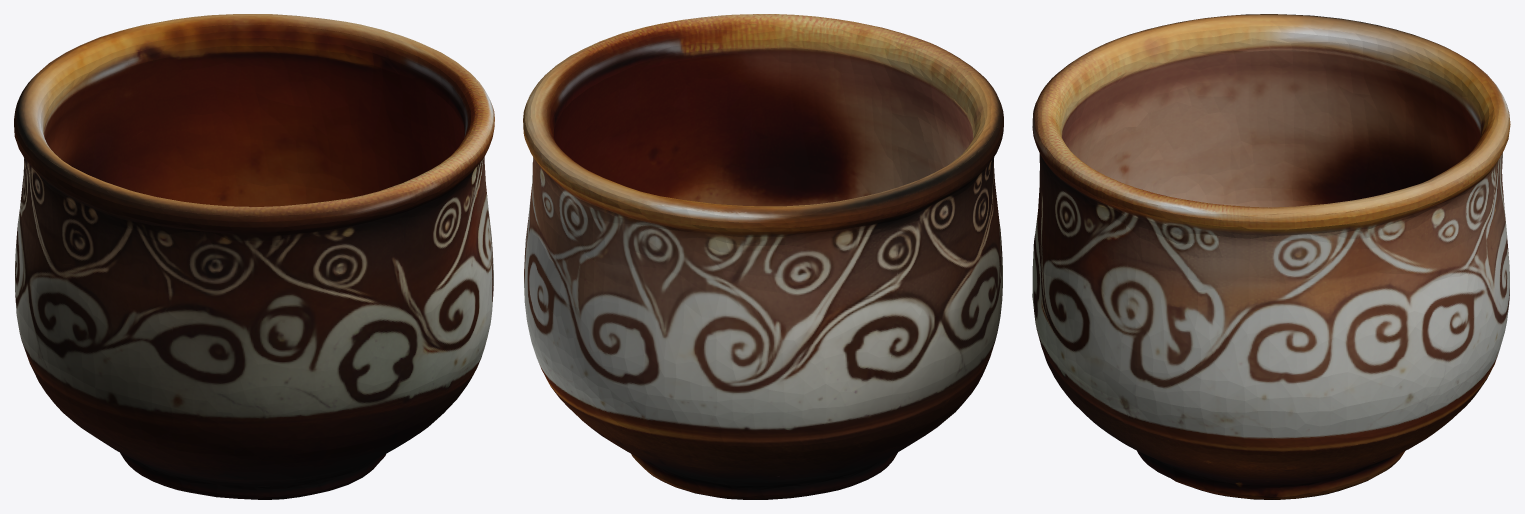
The model's file is ceramic-cup-used-rustic-worn.jpeg.glb.
3 renders of one model, left to right at view 1: azimuth 30°, elevation 25°; view 2: azimuth 150°, elevation 25°; view 3: azimuth 270°, elevation 25°, orthographic.
Parts seen in each view (by area): view 1: world; view 2: world; view 3: world.
Boxes of the visible parts, box(x1,y1,x2,y2) form: world: box(14, 14, 494, 499); world: box(523, 14, 1003, 499); world: box(1032, 14, 1510, 499).
Bounding box in the file's own units: 1 × 0.7665 × 1.
Materials: 1 (1 with a texture image).
